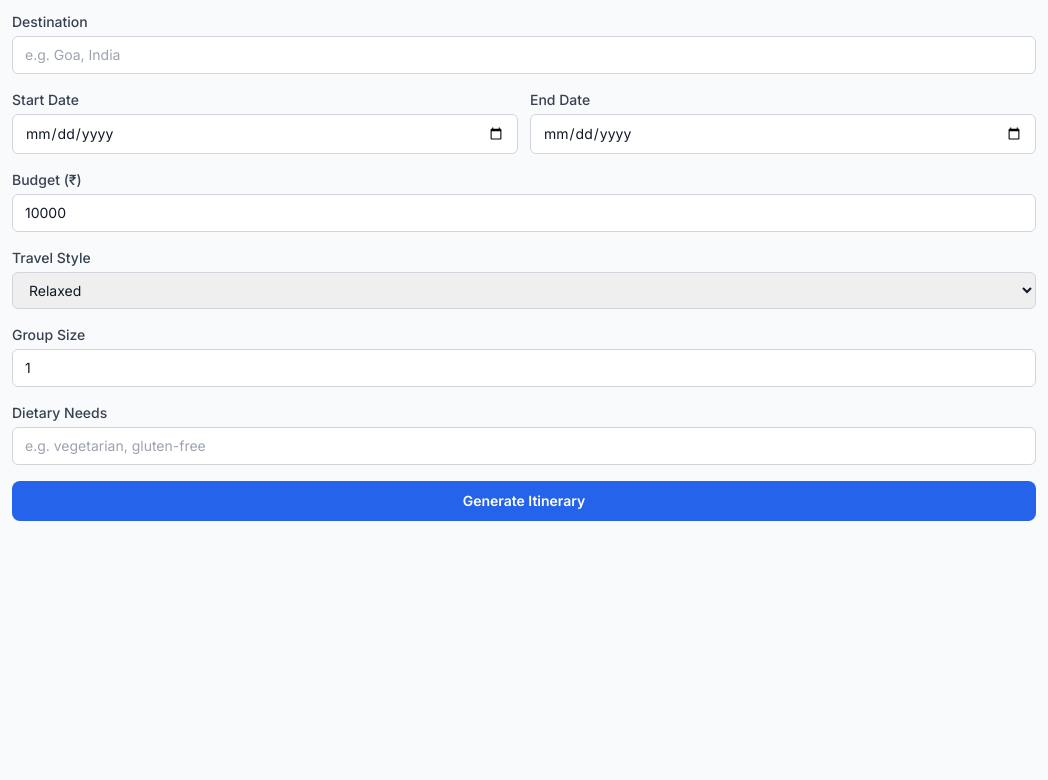
Test case: ConstraintForm › shows validation error when destination is empty and form is submitted
The image size is (1048, 780).
Click the button "Generate Itinerary" at x=524, y=501, box [12,481,1036,521]
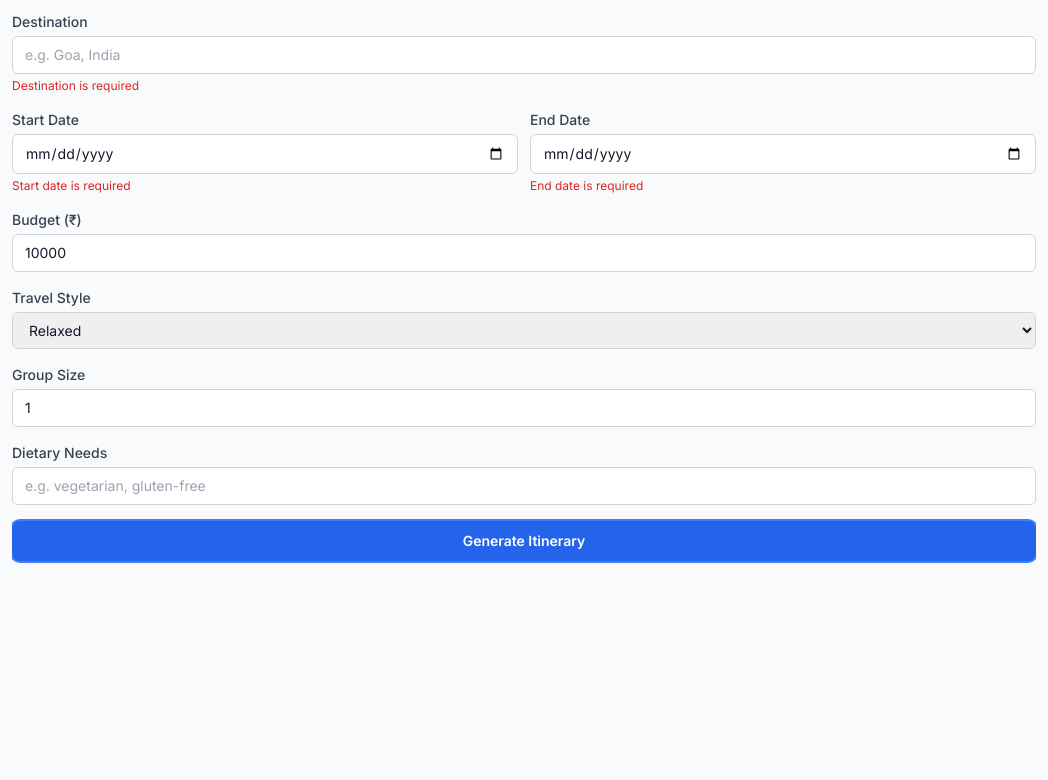
Check: the text "Destination is required" is shown, box [12,78,139,93]
